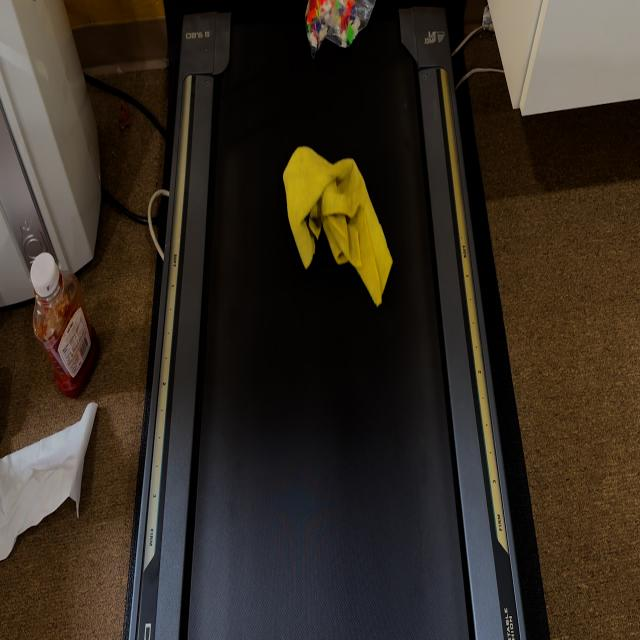Trash: (282, 143, 394, 308), (302, 0, 378, 60)
